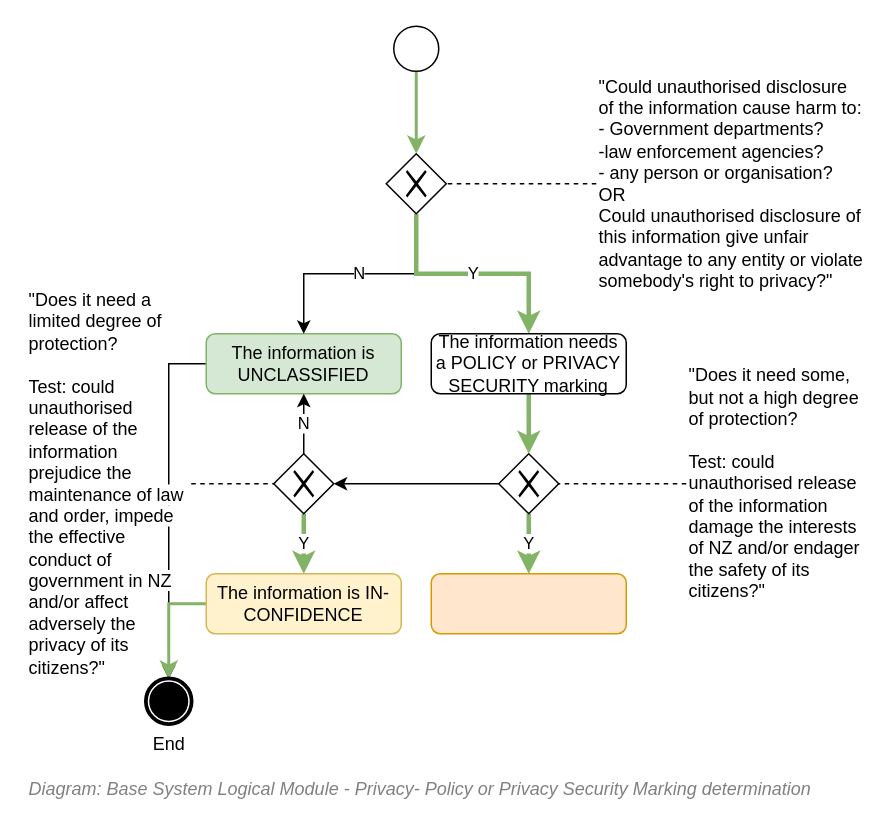
The diagram is 891 pixels wide and 831 high, and some of its shapes have lost their labels. Here are the shapes that lost their labels. From the top down, the box of each, then its label:
(392, 25, 439, 71): Start
(430, 572, 626, 634): The information is SENSITIVE
